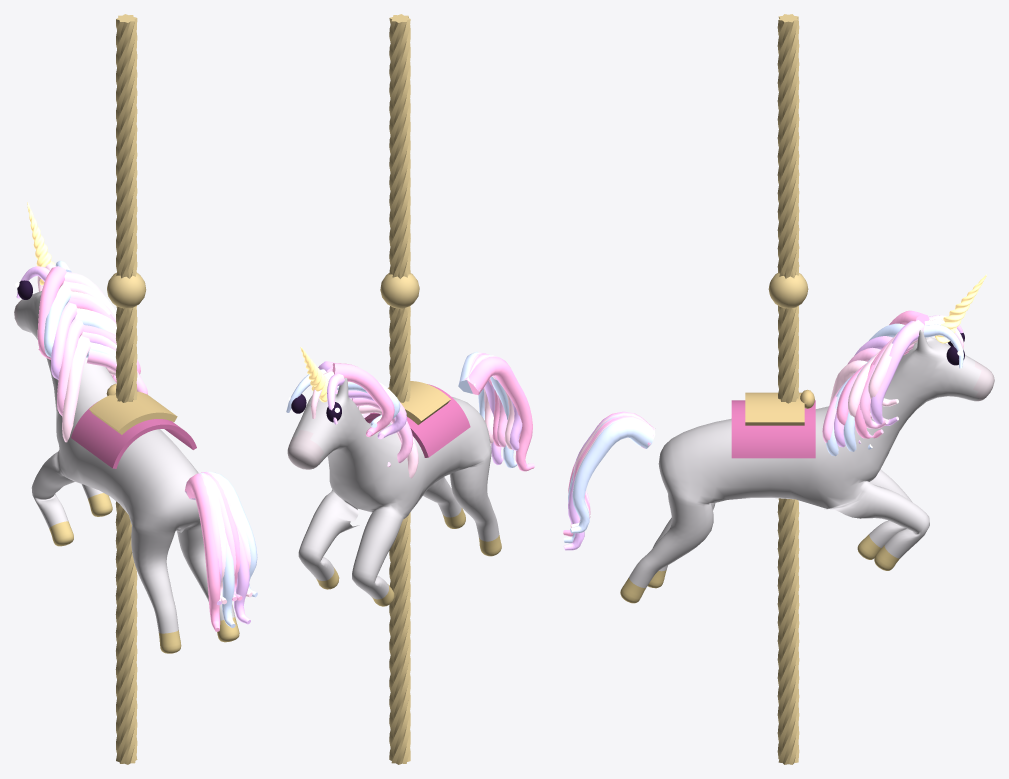
Rendered from carousel_unicorn_white.glb.
3 views of the same model, side by side, from view 1: azimuth 30°, elevation 25°; view 2: azimuth 150°, elevation 25°; view 3: azimuth 270°, elevation 25° (orthographic).
Parts seen in each view (by area): view 1: carousel_unicorn_white, pole, blanket, saddle; view 2: carousel_unicorn_white, pole, blanket, saddle; view 3: carousel_unicorn_white, pole, blanket, saddle.
Boxes of the visible parts, x1,y1,x2,y2 form: carousel_unicorn_white: [14, 202, 257, 653]; pole: [107, 14, 146, 764]; blanket: [71, 402, 196, 468]; saddle: [89, 383, 177, 434]; carousel_unicorn_white: [286, 347, 534, 606]; pole: [380, 14, 419, 764]; blanket: [364, 384, 470, 457]; saddle: [388, 381, 450, 424]; carousel_unicorn_white: [563, 274, 994, 603]; pole: [768, 14, 808, 764]; blanket: [731, 400, 815, 458]; saddle: [745, 389, 814, 425].
Bounding box in the file's own units: 0.5421 × 4.55 × 2.4.
